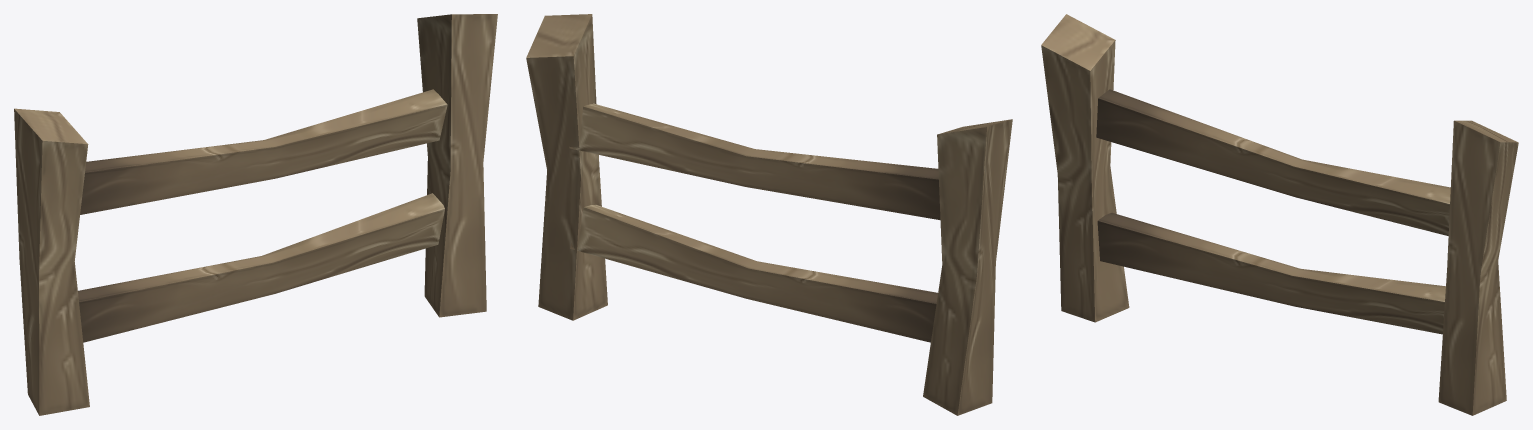
File: Egypt_Village_Props_15.FBX
The picture shows the model from 3 angles, left to right: view 1: azimuth 30°, elevation 25°; view 2: azimuth 150°, elevation 25°; view 3: azimuth 330°, elevation 25°; orthographic projection. The views are drawn at different scales.
Parts seen in each view (by area): view 1: Egypt_Village_Props_15; view 2: Egypt_Village_Props_15; view 3: Egypt_Village_Props_15.
Part boxes in pixels (x1,y1,x2,y2): Egypt_Village_Props_15: (14, 14, 497, 415); Egypt_Village_Props_15: (526, 14, 1012, 415); Egypt_Village_Props_15: (1041, 14, 1518, 415).
Bounding box in the file's own units: 246 × 150 × 36.85.
